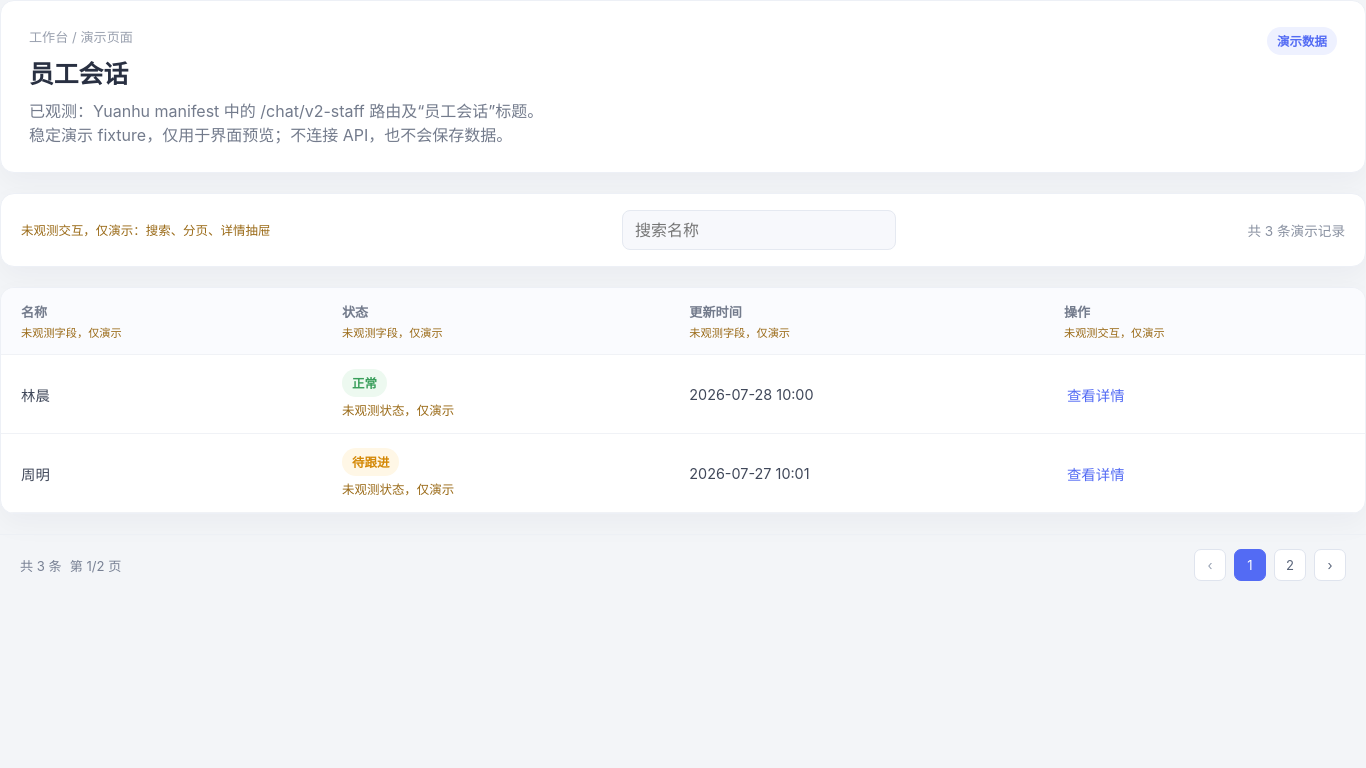
Test: DemoPage › changes the current page through pagination
Step 1. Click the button named "第 2 页" → [1290, 565], box x1=1274 y1=549 x2=1306 y2=581
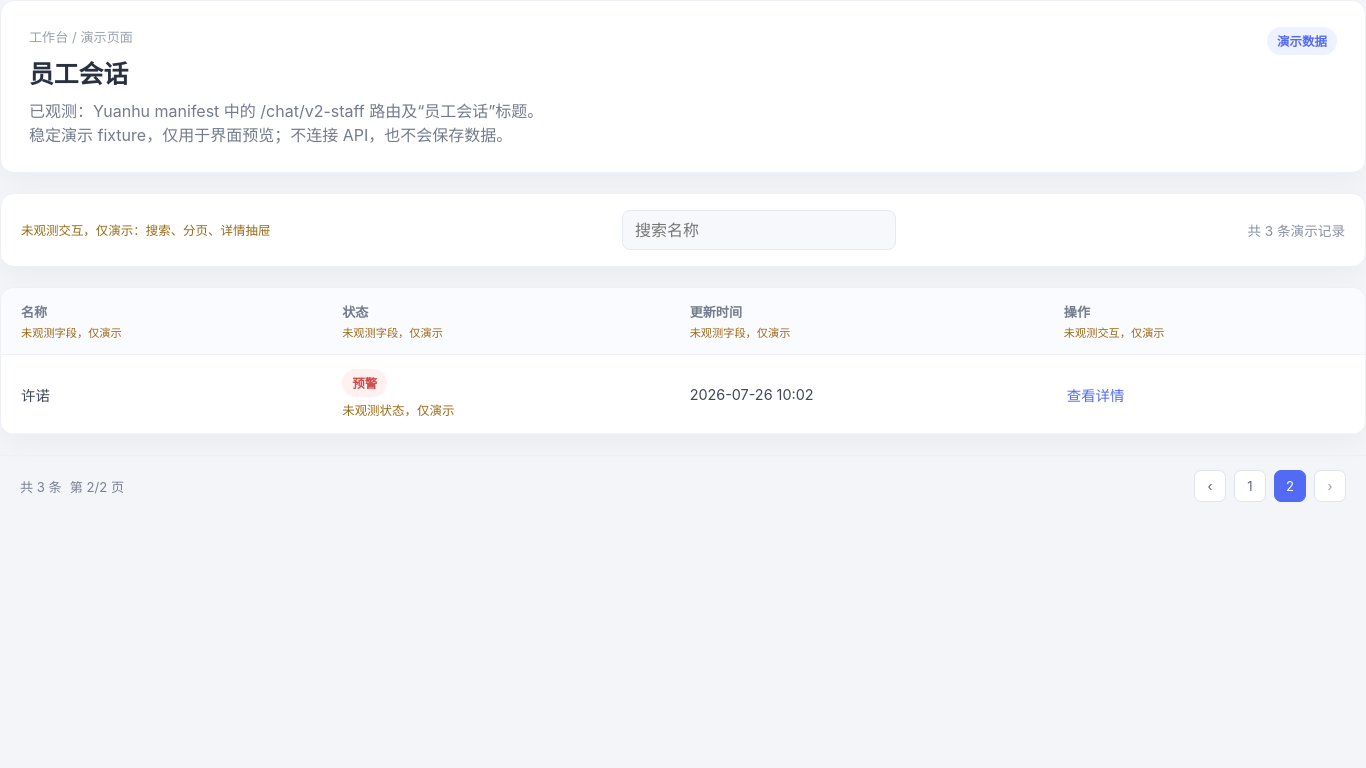
Expected: the text "许诺" is shown, x1=1 y1=354 x2=322 y2=434
Expected: the text "林晨" is gone
